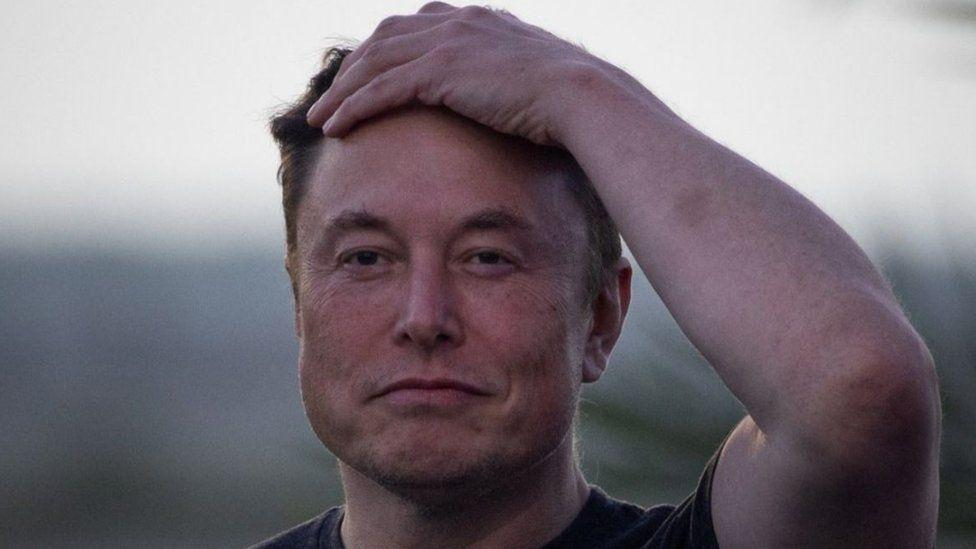Persons: (244, 0, 634, 525)
